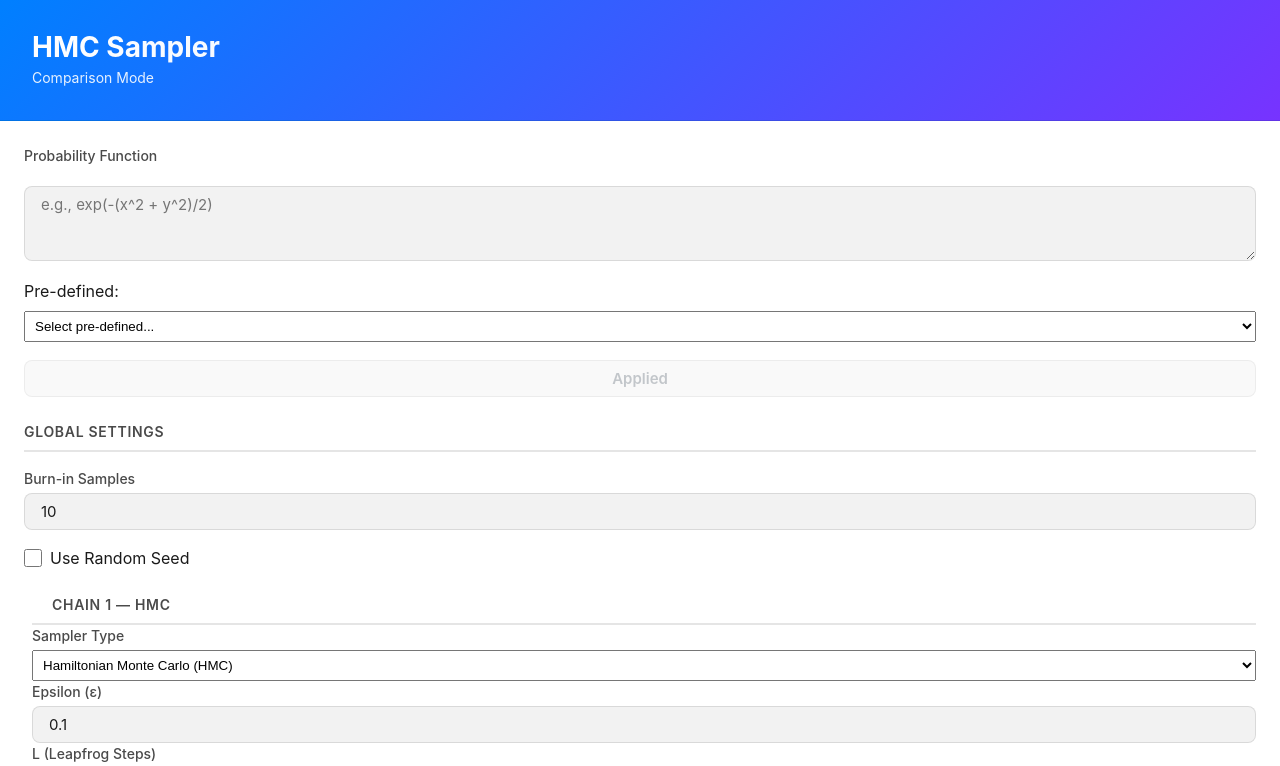
Test case: Controls Component › Apply Button State › should disable Apply button when draft is empty
The width and height of the screenshot is (1280, 766).
Enter non-empty value
Type "exp(-x^2)" into the text box with placeholder "e.g., exp(-(x^2 + y^2)/2)" at (640, 223), box left=24, top=186, right=1256, bottom=261
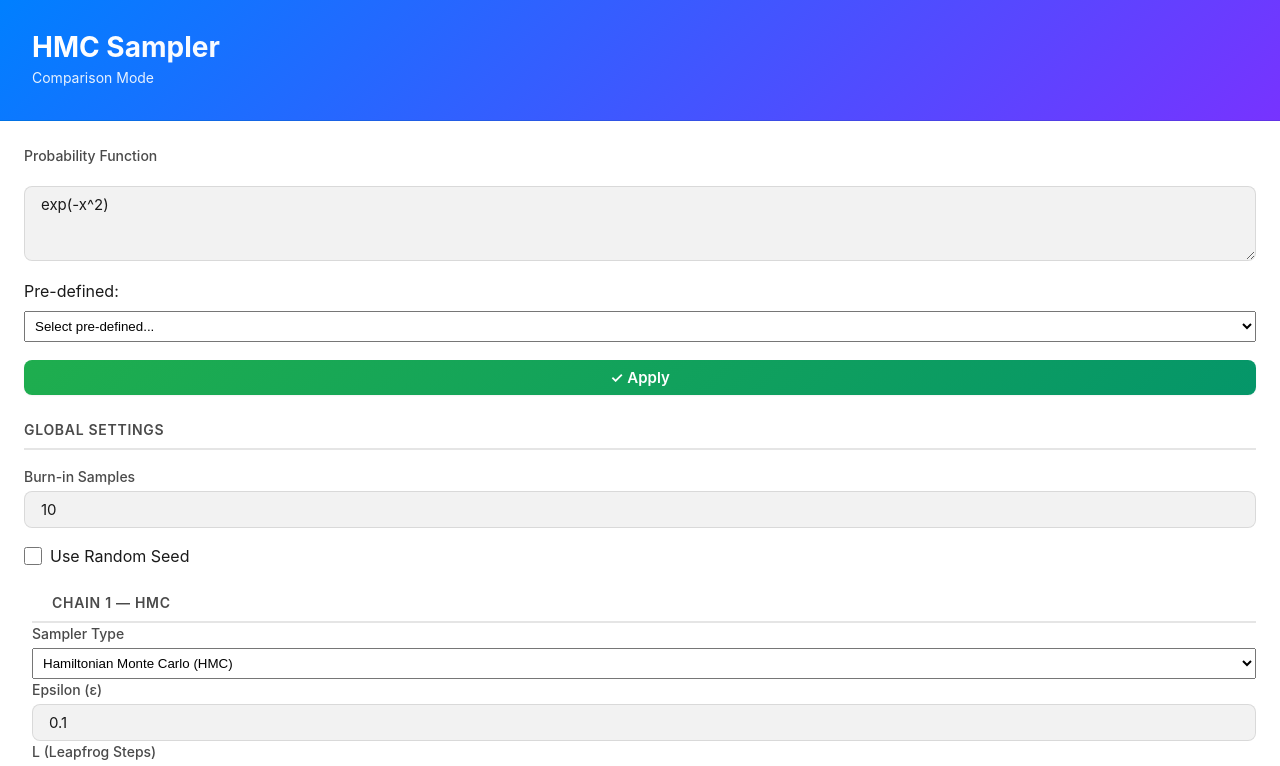
Expected: the button "✓ Apply" is enabled, left=24, top=360, right=1256, bottom=395
Clear the text box with placeholder "e.g., exp(-(x^2 + y^2)/2)" at (640, 223), box left=24, top=186, right=1256, bottom=261
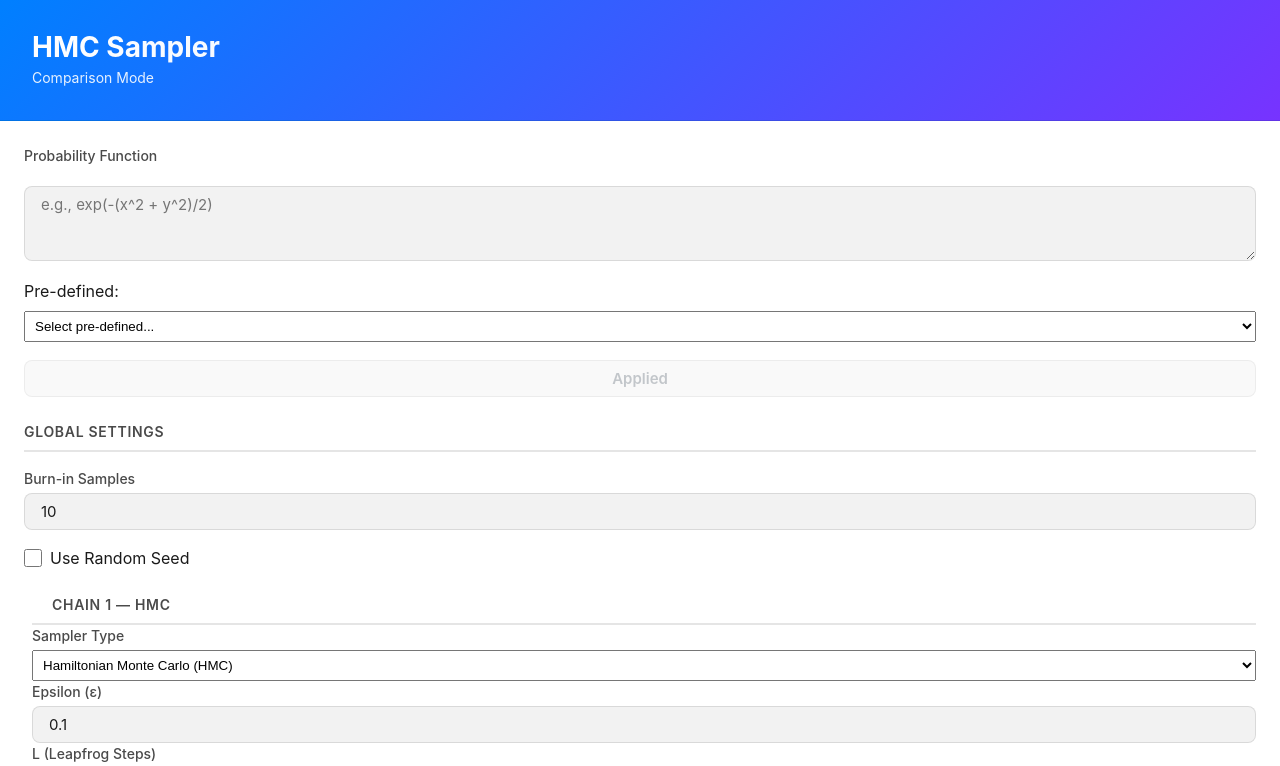
Expected: the button "Applied" is disabled, left=24, top=360, right=1256, bottom=397
